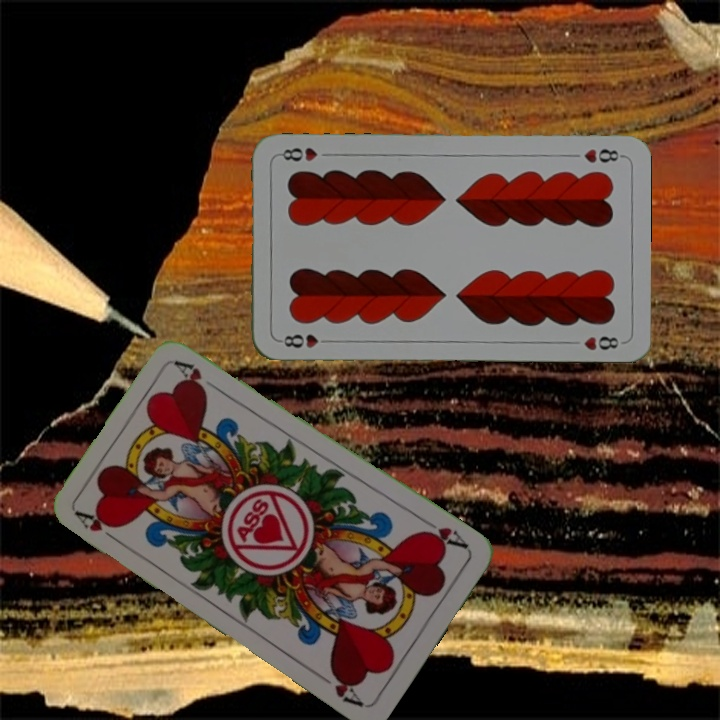H8: (275, 330, 334, 350), (580, 145, 625, 166)
HA: (72, 507, 124, 548), (416, 514, 471, 552)
